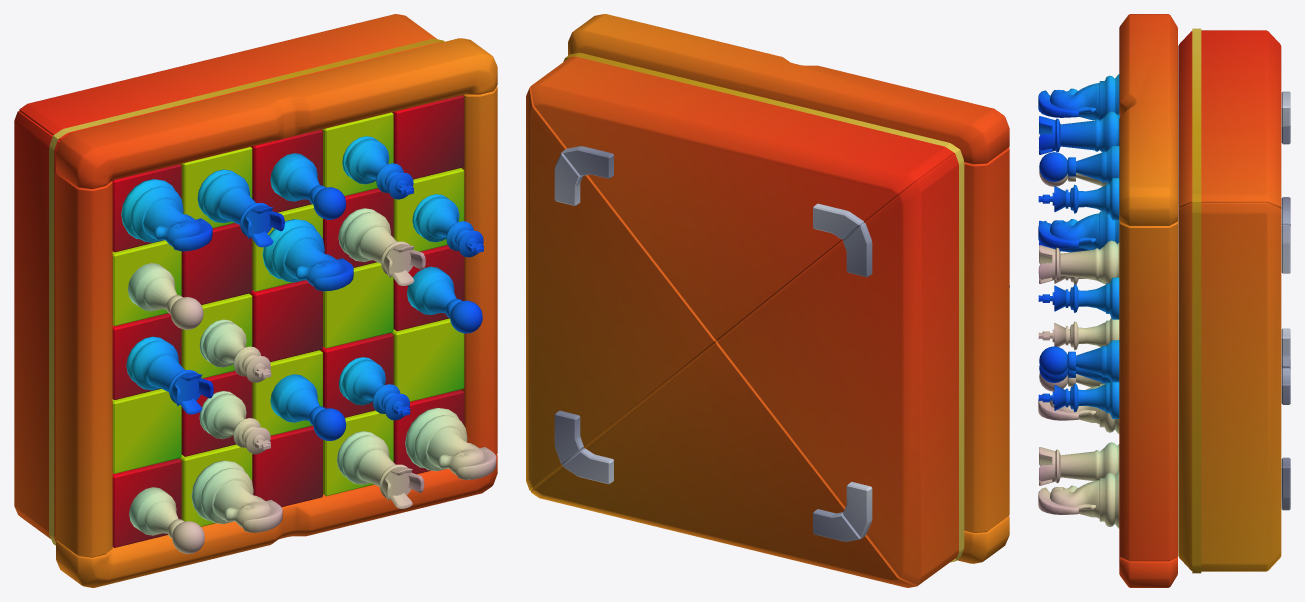
File: Level_171.fbx
The picture shows the model from 3 angles, left to right: view 1: azimuth 30°, elevation 25°; view 2: azimuth 150°, elevation 25°; view 3: azimuth 270°, elevation 25°; orthographic projection. The views are drawn at different scales.
Visible parts, largest first — view 1: Cube_L2 1.004, Cube_L2.004, Cube_L1.006, Cube_L1 2.006, Cube_L2 2.004, Cube_L2 3.004, Cube_L4 20, Cube_L4 24, Cube_L4 1.001, Cube_L4 12, Cube_L4 17, Cube_L4 10 (+37 smaller); view 2: Cube_L1.006, Cube_L1 2.006, Cube_L1 1.006, Cube_L1 3.006, Cube_L2 1.004, Cube_L2.004, Cube_L2 2.004; view 3: Cube_L1 3.006, Cube_L2 3.004, Cube_L1 2.006, Cube_L2 1.004, Cube_L3 13.001, Cube_L3 9.001, Cube_L3 15.001, Cube_L3 16.001, Cube_L3 7.001, Cube_L3 17.001, Cube_L3 11.001, Cube_L3 5.002 (+11 smaller).
Part boxes in pixels (<box>): Cube_L2 1.004: <box>56,38,497,189</box>; Cube_L2.004: <box>55,172,112,557</box>; Cube_L1.006: <box>14,111,59,545</box>; Cube_L1 2.006: <box>19,14,444,140</box>; Cube_L2 2.004: <box>56,455,497,587</box>; Cube_L2 3.004: <box>461,86,497,455</box>; Cube_L4 20: <box>392,95,464,179</box>; Cube_L4 24: <box>391,318,464,401</box>; Cube_L4 1.001: <box>112,389,181,473</box>; Cube_L4 12: <box>249,280,322,361</box>; Cube_L4 17: <box>323,262,393,348</box>; Cube_L4 10: <box>252,425,322,507</box>; Cube_L1.006: <box>717,150,964,585</box>; Cube_L1 2.006: <box>531,52,959,340</box>; Cube_L1 1.006: <box>531,341,955,587</box>; Cube_L1 3.006: <box>526,57,717,490</box>; Cube_L2 1.004: <box>568,14,1009,164</box>; Cube_L2.004: <box>964,147,1009,532</box>; Cube_L2 2.004: <box>955,516,1009,563</box>; Cube_L1 3.006: <box>1178,202,1290,573</box>; Cube_L2 3.004: <box>1119,221,1177,561</box>; Cube_L1 2.006: <box>1178,28,1290,226</box>; Cube_L2 1.004: <box>1119,14,1177,225</box>; Cube_L3 13.001: <box>1038,471,1119,528</box>; Cube_L3 9.001: <box>1039,240,1119,284</box>; Cube_L3 15.001: <box>1038,74,1119,120</box>; Cube_L3 16.001: <box>1039,111,1119,154</box>; Cube_L3 7.001: <box>1039,442,1119,485</box>; Cube_L3 17.001: <box>1038,211,1119,249</box>; Cube_L3 11.001: <box>1039,340,1119,382</box>; Cube_L3 5.002: <box>1039,146,1119,183</box>.
Size of the model in its own units: 15.67 by 15.67 by 8.95.
